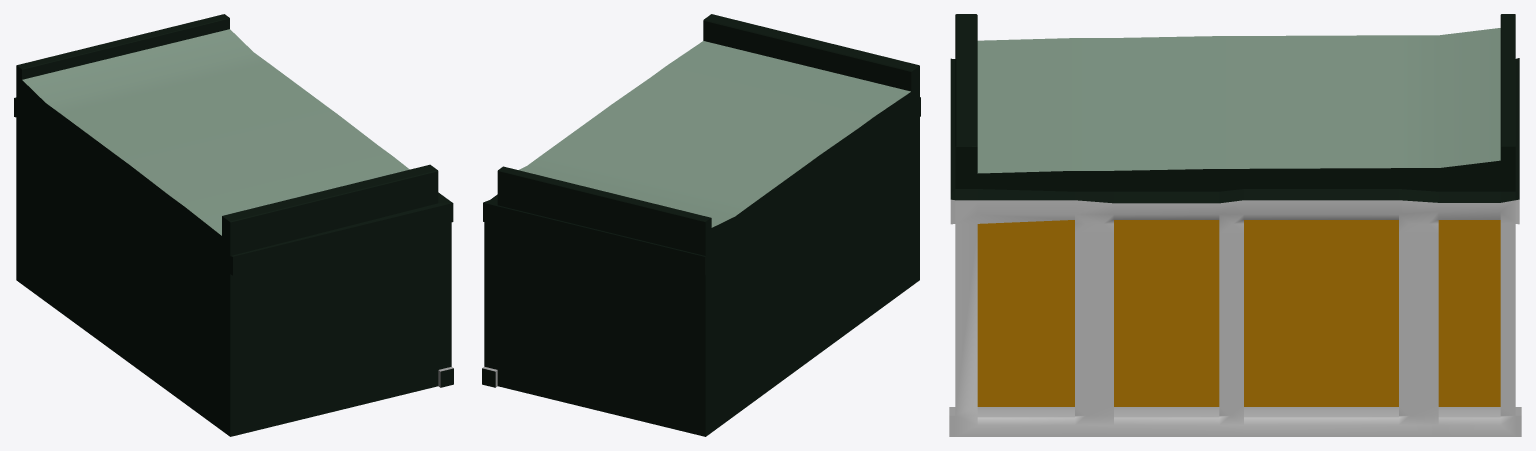
File: Caja.fbx
3 renders of one model, left to right at view 1: azimuth 30°, elevation 25°; view 2: azimuth 150°, elevation 25°; view 3: azimuth 270°, elevation 25°, orthographic. The views are drawn at different scales.
Parts seen in each view (by area): view 1: pCube1; view 2: pCube1; view 3: pCube1.
Boxes of the visible parts, bbox=[...] form: pCube1: bbox=[14, 14, 453, 436]; pCube1: bbox=[482, 14, 920, 436]; pCube1: bbox=[949, 14, 1521, 436].
Bounding box in the file's own units: 0.6285 × 0.5834 × 1.07.
